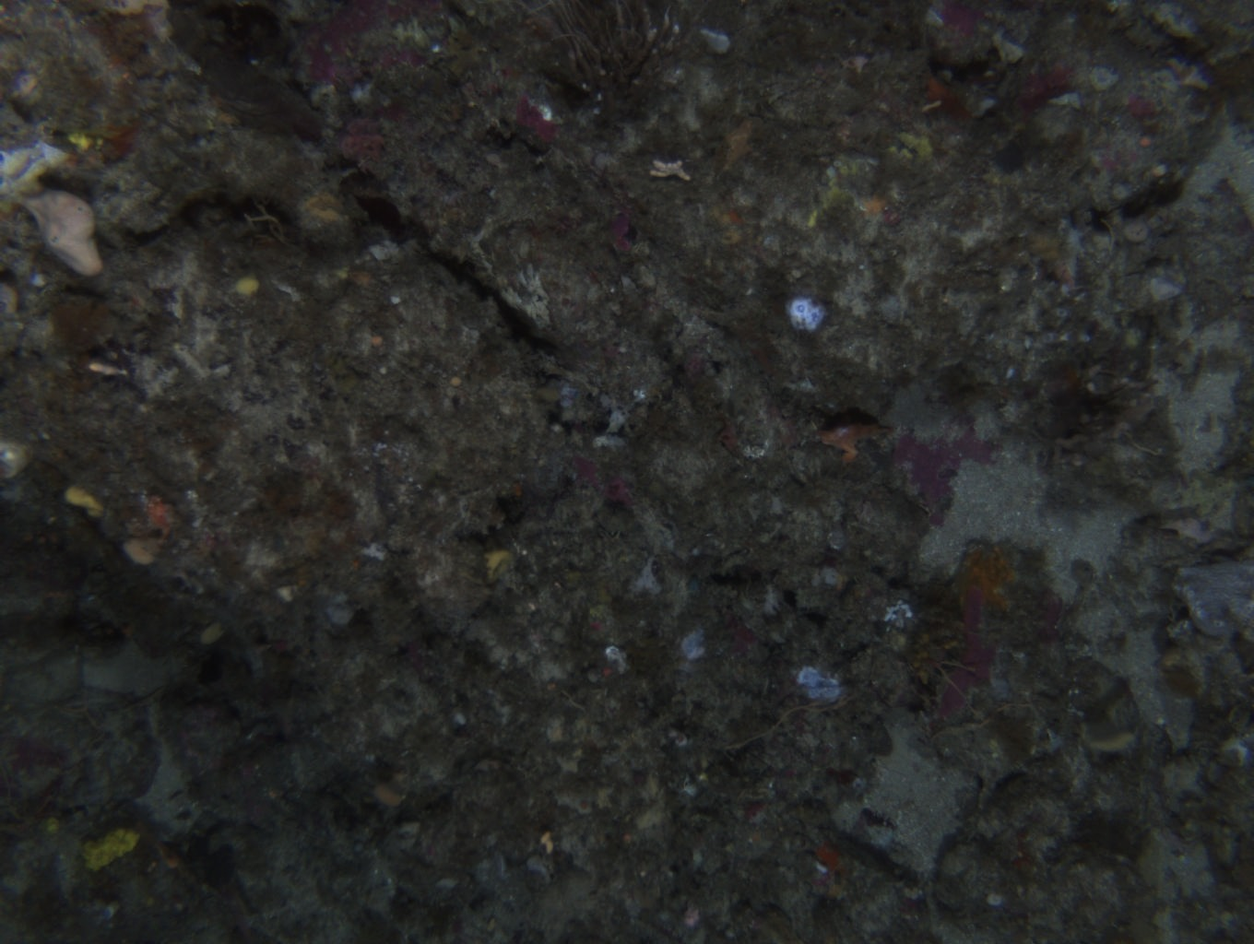Brachionichthyidae: (812, 416, 895, 466)
